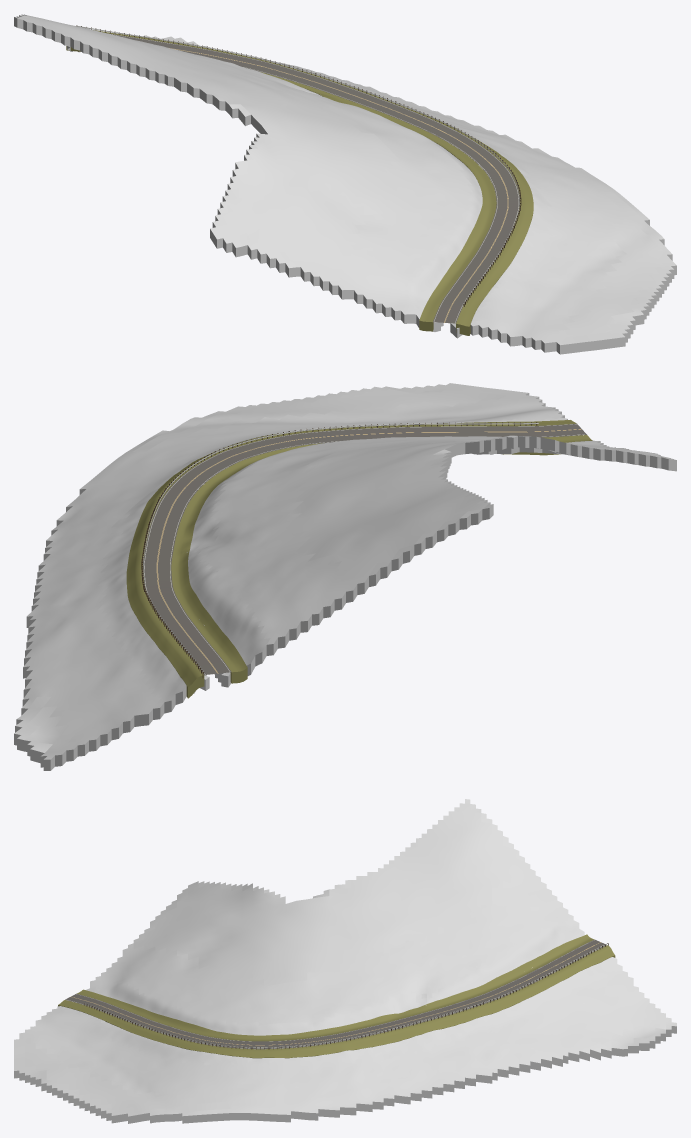
Rendered from conz_87.glb.
The picture shows the model from 3 angles, top to bottom: view 1: azimuth 30°, elevation 25°; view 2: azimuth 150°, elevation 25°; view 3: azimuth 270°, elevation 25°; orthographic projection. The views are drawn at different scales.
Parts seen in each view (by area): view 1: terrain87, road87, verge87R, verge87L, beam87_90318, paint_white87, paint_yellow87, posts87_90318; view 2: terrain87, road87, verge87L, verge87R, beam87_90318, posts87_90318, paint_yellow87, paint_white87; view 3: terrain87, verge87L, road87, verge87R, beam87_90318, posts87_90318, paint_yellow87.
Part boxes in pixels (x1,y1,x2,y2): terrain87: [14, 14, 676, 354]; road87: [106, 33, 519, 323]; verge87R: [66, 46, 496, 331]; verge87L: [93, 30, 533, 335]; beam87_90318: [77, 26, 519, 305]; paint_white87: [110, 34, 518, 323]; paint_yellow87: [169, 48, 508, 322]; posts87_90318: [76, 25, 521, 306]; terrain87: [14, 383, 676, 770]; road87: [143, 423, 586, 674]; verge87L: [126, 420, 576, 698]; verge87R: [171, 435, 592, 683]; beam87_90318: [143, 423, 538, 671]; posts87_90318: [141, 422, 537, 677]; paint_yellow87: [156, 429, 581, 673]; paint_white87: [144, 424, 584, 674]; terrain87: [14, 799, 676, 1123]; verge87L: [58, 945, 615, 1058]; road87: [65, 939, 606, 1049]; verge87R: [77, 934, 594, 1041]; beam87_90318: [85, 943, 607, 1047]; posts87_90318: [84, 943, 608, 1049]; paint_yellow87: [70, 942, 600, 1045].
Bounding box in the file's own units: 152 × 63.67 × 244.
